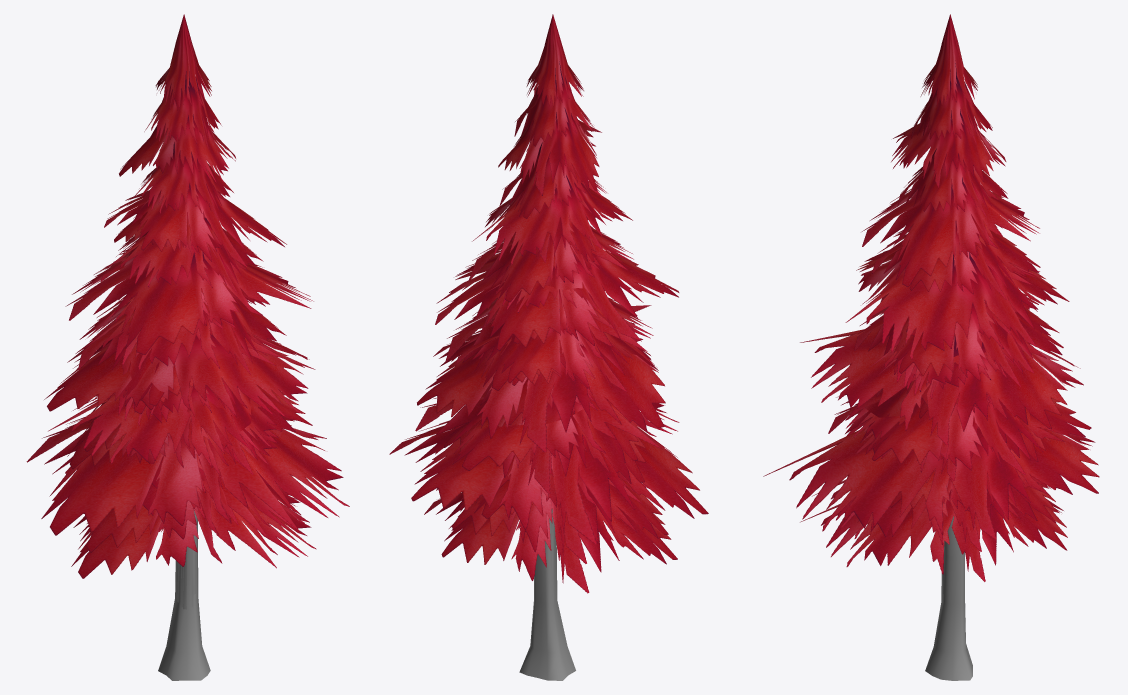
The model's file is Mesh_Trees.FBX.
3 renders of one model, left to right at view 1: azimuth 30°, elevation 25°; view 2: azimuth 150°, elevation 25°; view 3: azimuth 270°, elevation 25°, orthographic.
Parts seen in each view (by area): view 1: Tree_c, Tree_b, Tree_a; view 2: Tree_c, Tree_b, Tree_a; view 3: Tree_c, Tree_b, Tree_a.
Part boxes in pixels (x1=…): Tree_c: x1=26, y1=14, x2=349, y2=680; Tree_b: x1=67, y1=182, x2=316, y2=609; Tree_a: x1=80, y1=188, x2=304, y2=610; Tree_c: x1=389, y1=14, x2=708, y2=680; Tree_b: x1=424, y1=179, x2=677, y2=593; Tree_a: x1=436, y1=175, x2=668, y2=604; Tree_c: x1=763, y1=14, x2=1099, y2=680; Tree_b: x1=800, y1=181, x2=1067, y2=600; Tree_a: x1=812, y1=179, x2=1056, y2=551.
Bounding box in the file's own units: 8.54 × 16.39 × 8.2.
2 materials, 1 textured.
